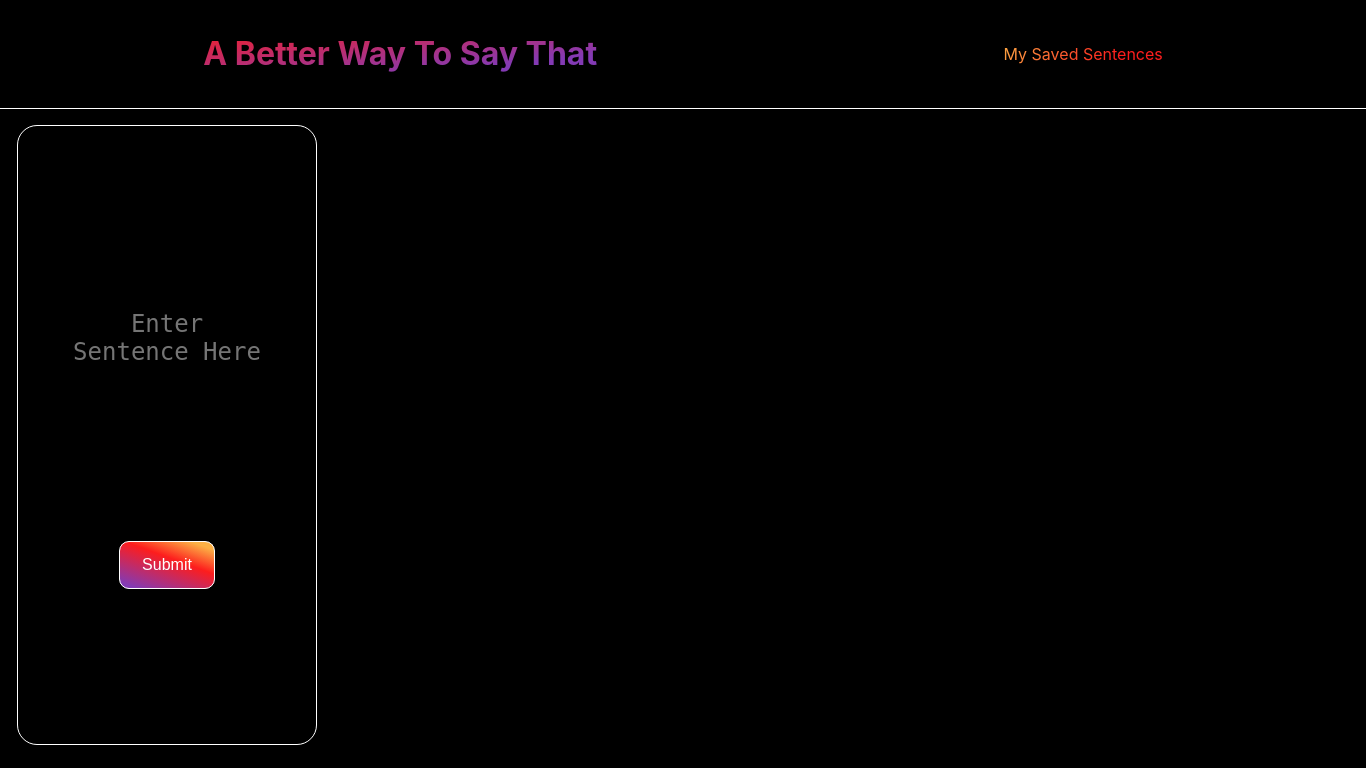
Submit Sentence › Should clean out any characters except for letters and spaces from a user's input
The image size is (1366, 768).
Type "Bunnies make, me$% &feel happy, calm and #ecstatic+" into the text box with placeholder "Enter Sentence Here" at (168, 333), box [39,281,296,384]
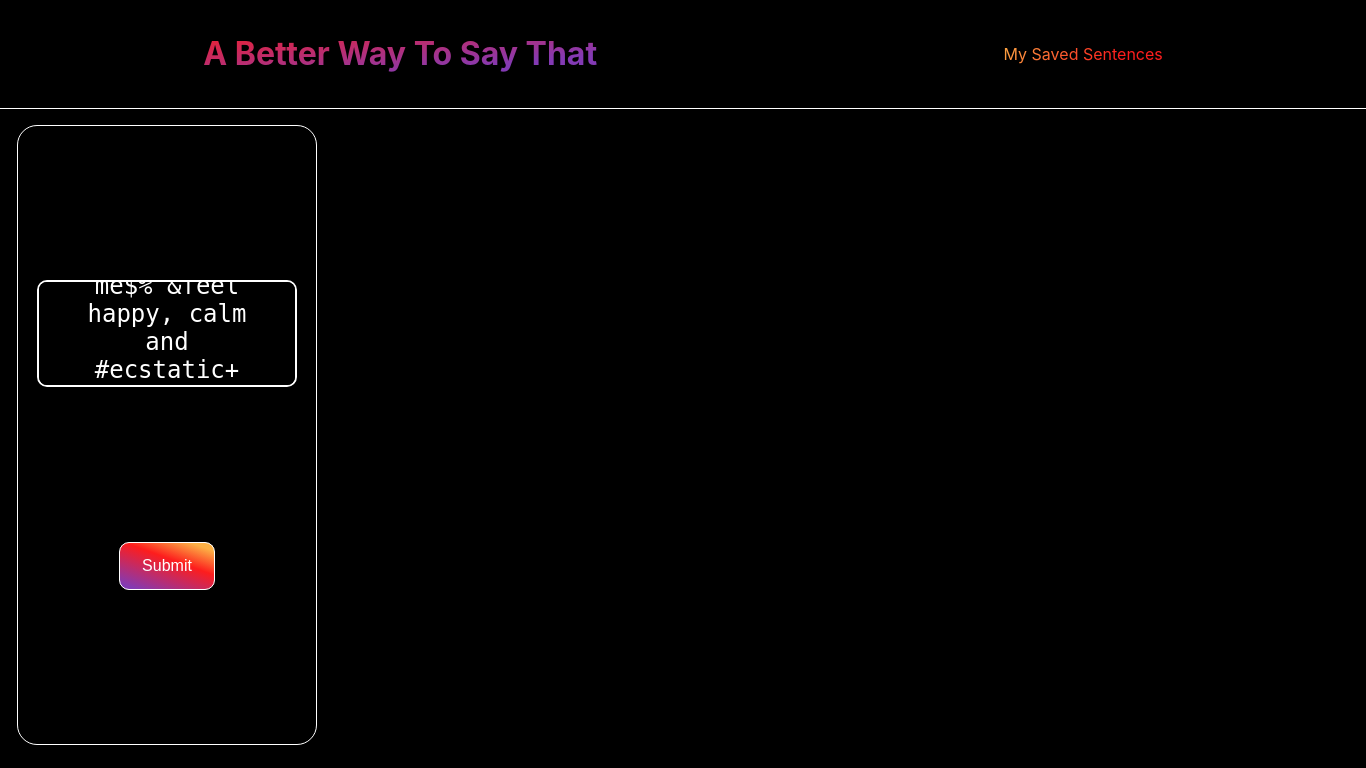
Click the button "Submit" at (167, 566), box [119,542,215,590]
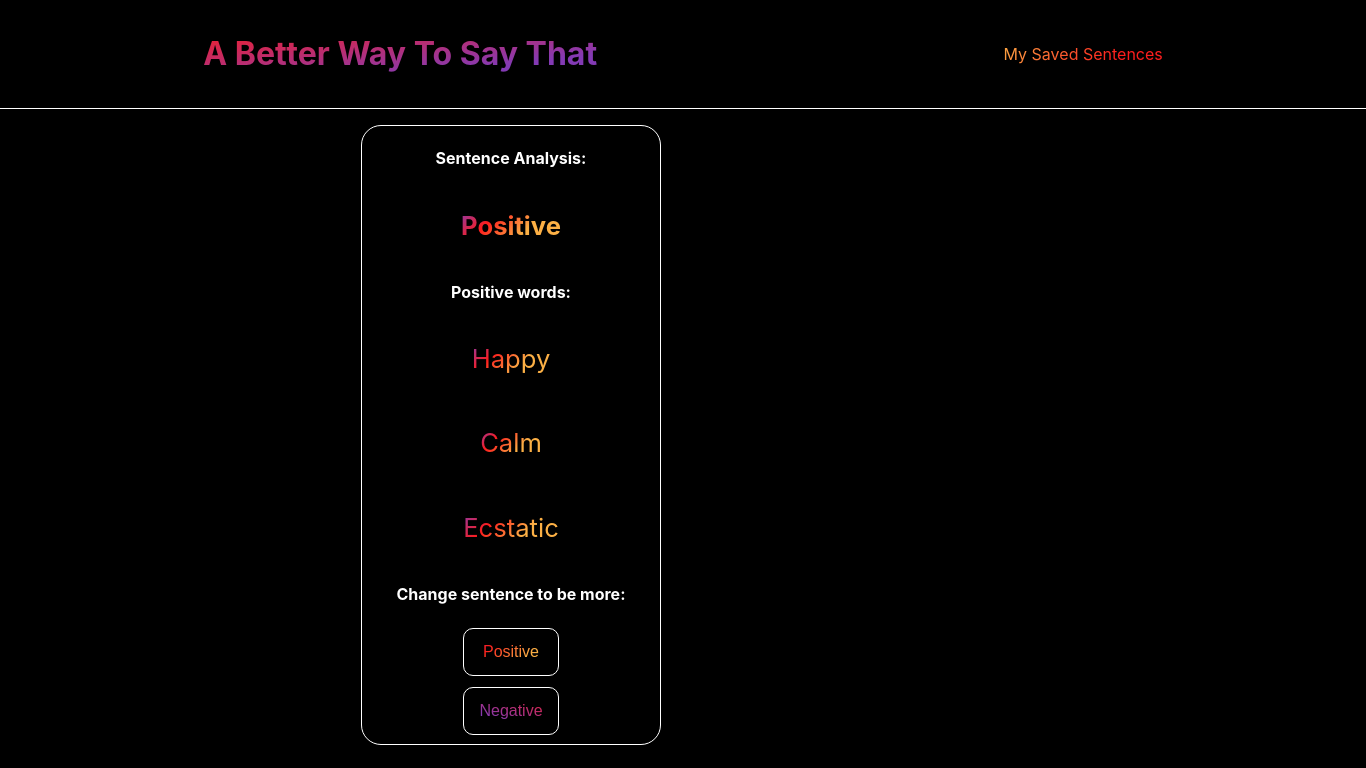
Click the button with class "negative" at (511, 711), box [463,687,559,735]
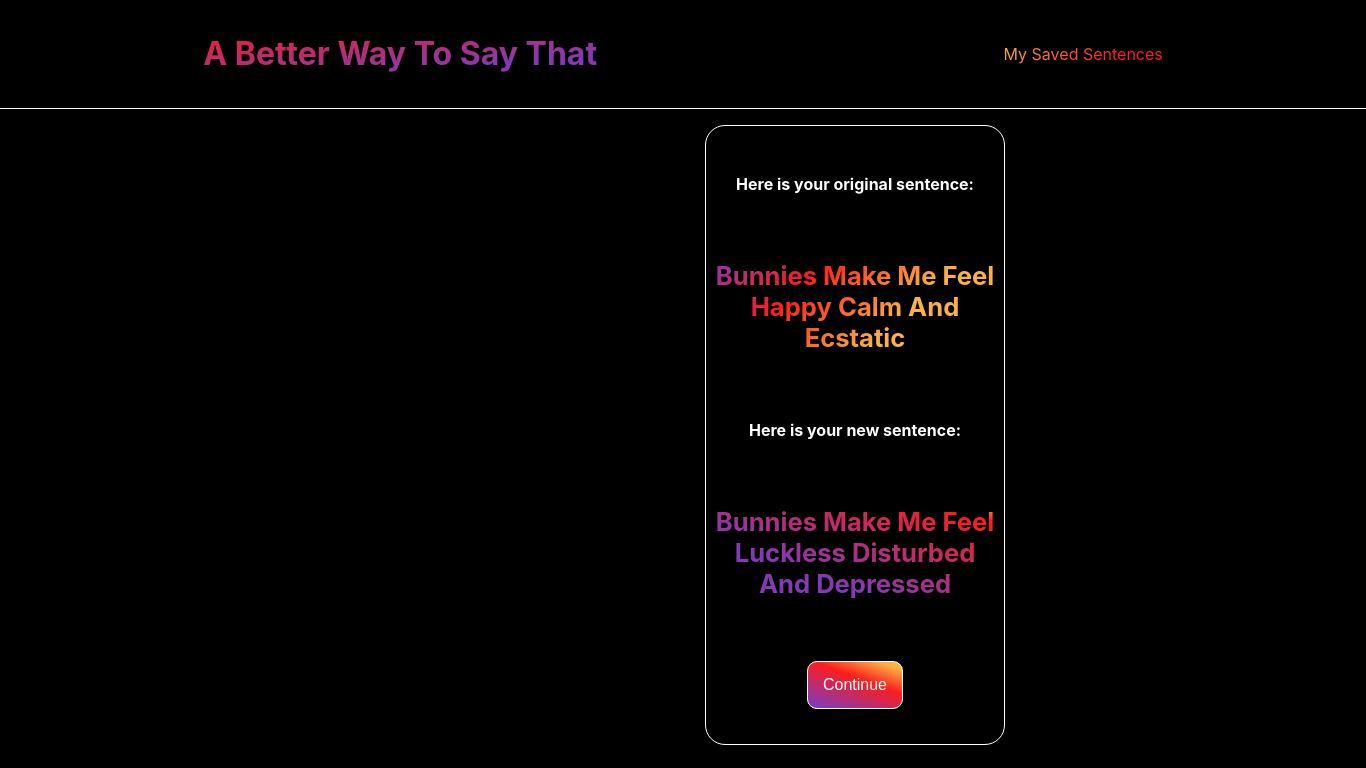
Check: the heading "Bunnies make me feel happy calm and ecstatic" is shown, box [712,260,998,353]
